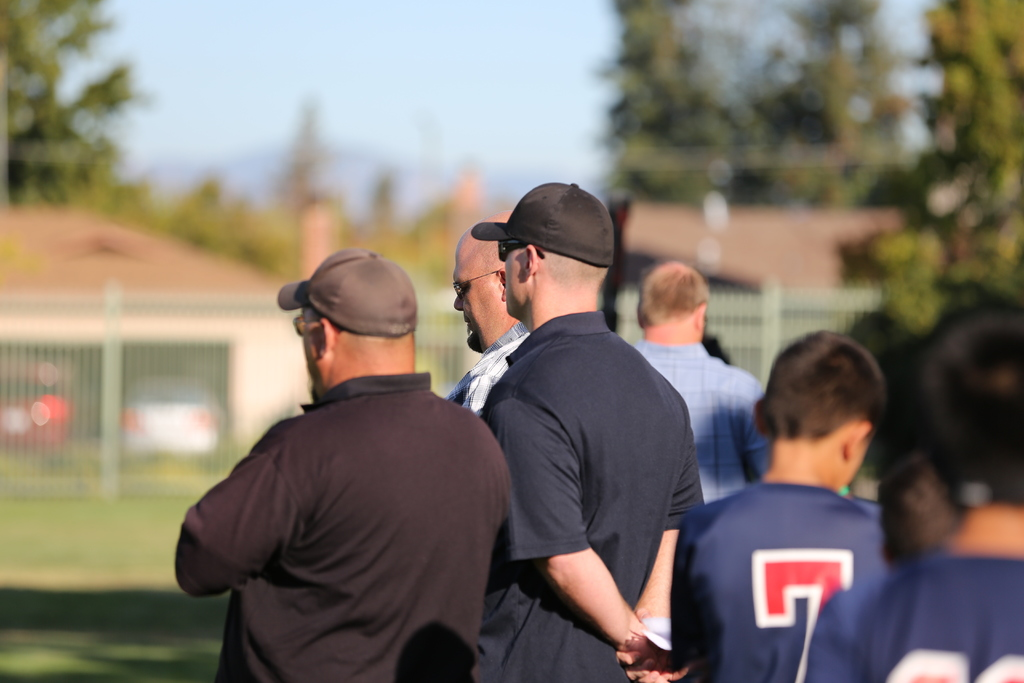Human-face: (452, 243, 500, 352), (289, 306, 325, 396), (500, 248, 523, 309)
